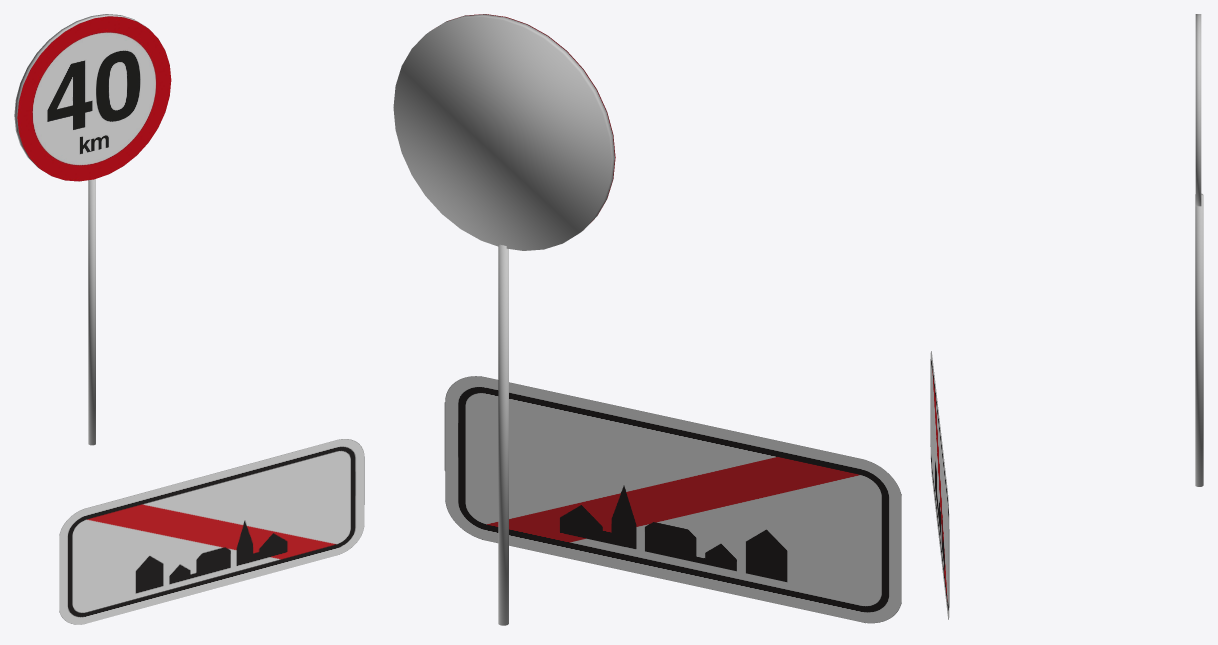
Rendered from byskilt.fbx.
3 views of the same model, side by side, from view 1: azimuth 30°, elevation 25°; view 2: azimuth 150°, elevation 25°; view 3: azimuth 270°, elevation 25° (orthographic). The views are drawn at different scales.
Parts seen in each view (by area): view 1: byskilt-ud-001, Circle, Cylinder, Circle.001; view 2: byskilt-ud-001, Circle.001, Cylinder; view 3: Cylinder, byskilt-ud-001, Circle.001.
Boxes of the visible parts, x1,y1,x2,y2 form: byskilt-ud-001: (59, 439, 364, 624); Circle: (17, 16, 171, 181); Cylinder: (88, 179, 95, 445); Circle.001: (14, 14, 147, 167); byskilt-ud-001: (444, 376, 901, 623); Circle.001: (393, 14, 614, 250); Cylinder: (498, 244, 508, 625); Cylinder: (1195, 193, 1203, 486); byskilt-ud-001: (930, 351, 949, 619); Circle.001: (1195, 14, 1201, 206).
Size of the model in its own units: 9423 by 13907 by 6555.
3 materials, 2 textured.
